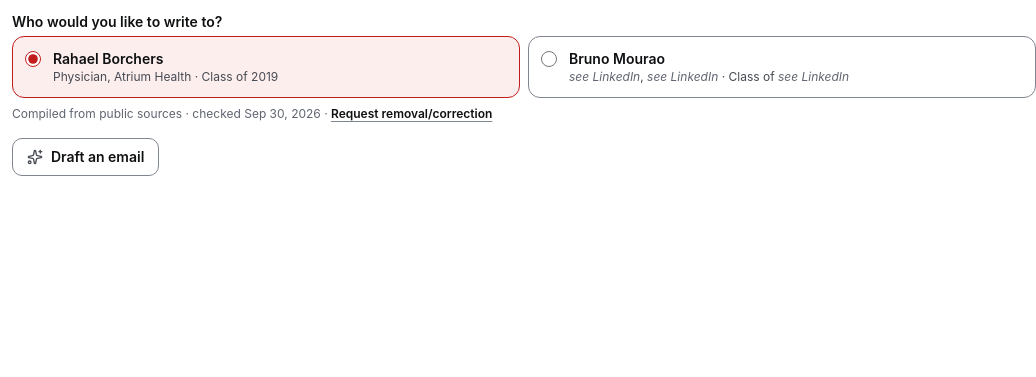
Test case: AiColdEmailPanel › renders the truncated result kind with its message
The image size is (1036, 377).
Step 1. Click the button "Draft an email" → (86,157), box [12,138,159,176]
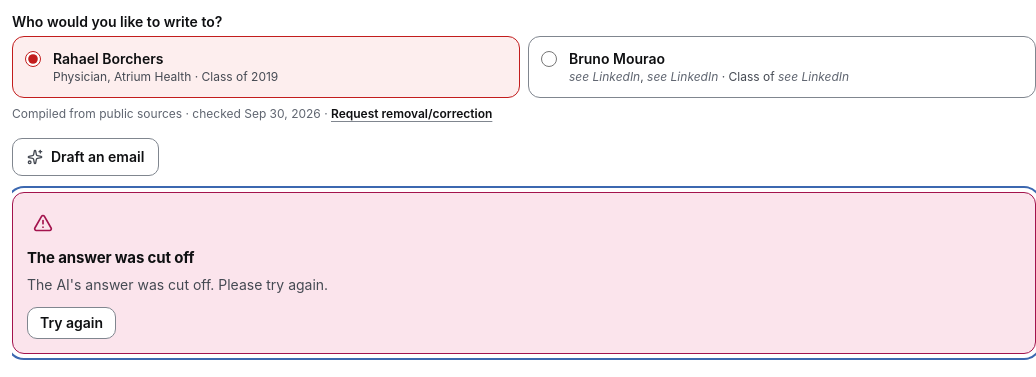
Check: the element with test id "ai-email-failure" shows "The AI's answer was cut off. Please try again.", box [27,276,328,293]
